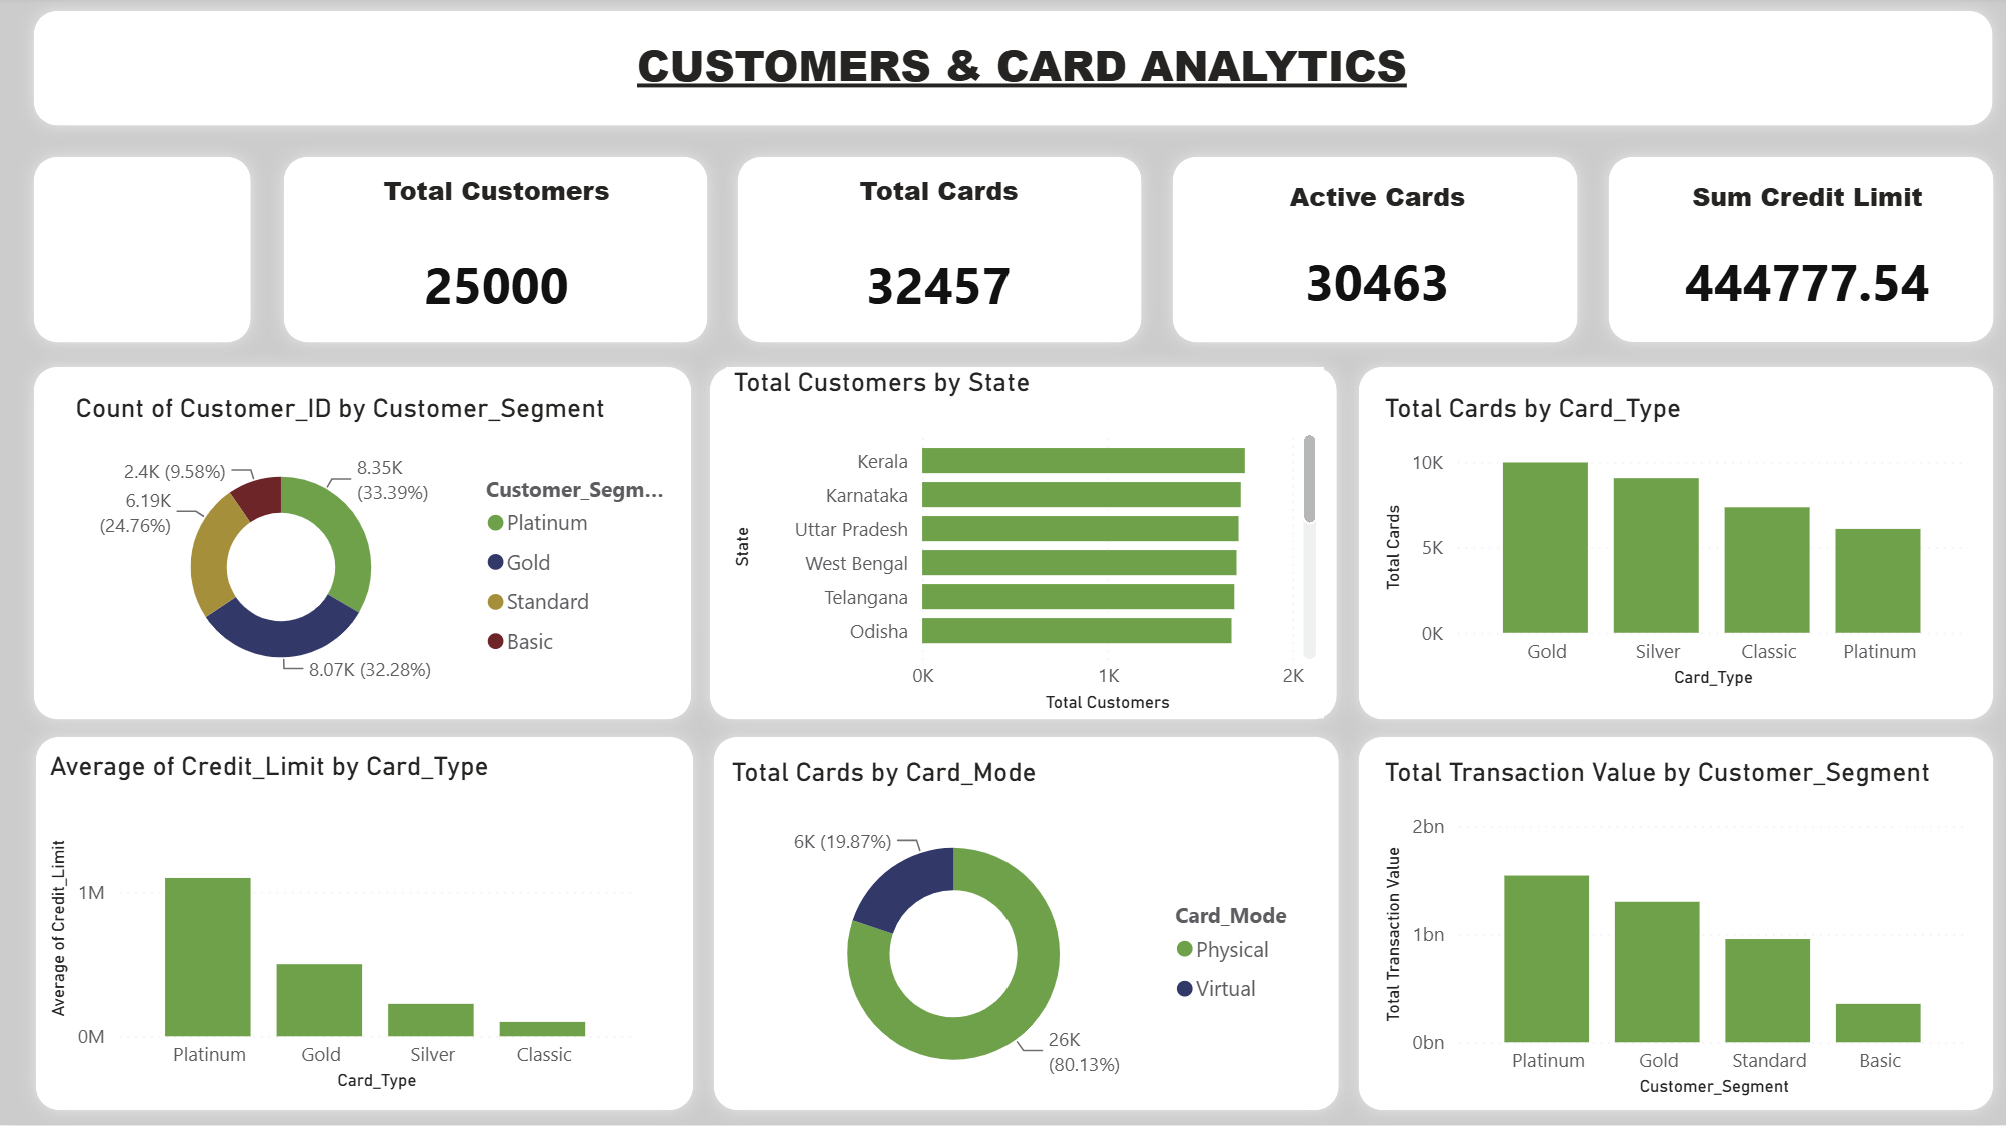

The dashboard page shown, as its layout file describes it:
{"tool":"powerbi","page":{"name":"Customer & Card Analytics","canvas":[1280,720],"ordinal":1},"visuals":[{"type":"shape","box":[170.9,93.5,290.1,138.4],"z":0},{"type":"shape","box":[460.4,93.1,276.8,138.4],"z":1000},{"type":"shape","box":[737.1,93.1,278.1,138.4],"z":2000},{"type":"shape","box":[1015.2,93.1,265.3,138.1],"z":3000},{"type":"shape","box":[855.6,227.5,424.4,244.8],"z":4000},{"type":"shape","box":[855.6,463,424.4,258.1],"z":5000},{"type":"shape","box":[442.4,226.9,419.1,244.8],"z":6000},{"type":"shape","box":[444.4,463,417.8,258.1],"z":7000},{"type":"shape","box":[12,227.5,439.1,244.8],"z":8000},{"type":"shape","box":[12.9,462.7,439.1,258.1],"z":9000},{"type":"shape","box":[12,93.1,158.3,138.4],"z":10000},{"type":"shape","box":[12,0,1268,93.1],"z":11000},{"type":"cardVisual","title":"Total Customers","fields":{"Data":["FactTransaction.Total Customers"]},"box":[201.5,112.8,230.2,121.1],"z":12000},{"type":"cardVisual","title":"Sum Credit Limit","fields":{"Data":["Avg(DimCard.Credit_Limit)"]},"box":[1022.1,117.7,258.1,109.1],"z":13000},{"type":"donutChart","fields":{"Category":["DimCustomer.Customer_Segment"],"Y":["CountNonNull(DimCustomer.Customer_ID)"]},"box":[43.5,253.1,388.5,191.8],"z":14000},{"type":"barChart","fields":{"Category":["DimCustomer.State"],"Y":["FactTransaction.Total Customers"]},"box":[462.7,237,380.5,224.1],"z":15000},{"type":"cardVisual","title":"Active Cards","fields":{"Data":["FactTransaction.Active Cards"]},"box":[748,117.7,258.1,109.1],"z":16000},{"type":"cardVisual","title":"Total Cards","fields":{"Data":["FactTransaction.Total Cards"]},"box":[483.6,112.8,230.2,121.1],"z":17000},{"type":"columnChart","fields":{"Category":["DimCard.Card_Type"],"Y":["FactTransaction.Total Cards"]},"box":[877,253.1,382.1,191.8],"z":18000},{"type":"columnChart","fields":{"Category":["DimCard.Card_Type"],"Y":["Avg(DimCard.Credit_Limit)"]},"box":[27.4,482,382.1,220.9],"z":19000},{"type":"donutChart","fields":{"Category":["DimCard.Card_Mode"],"Y":["FactTransaction.Total Cards"]},"box":[461.1,485.2,382.1,220.9],"z":20000},{"type":"columnChart","fields":{"Category":["DimCustomer.Customer_Segment"],"Y":["FactTransaction.Total Transaction Value"]},"box":[877,485.2,382.1,220.9],"z":21000},{"type":"textbox","box":[43.5,21,1215.5,53.2],"z":22000}]}

Visuals, with their boxes in screenshot pixels (x1, y1, x2, y2), scaled from the page's 1280x720 canvas onto the 2006x1126 screenshot:
shape: 268 146 722 363
shape: 722 146 1155 362
shape: 1155 146 1591 362
shape: 1591 146 2005 362
shape: 1341 356 2005 739
shape: 1341 724 2005 1125
shape: 693 355 1350 738
shape: 696 724 1351 1125
shape: 19 356 707 739
shape: 20 724 708 1125
shape: 19 146 267 362
shape: 19 0 2005 146
"Total Customers" cardVisual: 316 176 677 366
"Sum Credit Limit" cardVisual: 1602 184 2005 355
donutChart - DimCustomer.Customer_Segment x CountNonNull(DimCustomer.Customer_ID): 68 396 677 696
barChart - DimCustomer.State x FactTransaction.Total Customers: 725 371 1321 721
"Active Cards" cardVisual: 1172 184 1577 355
"Total Cards" cardVisual: 758 176 1119 366
columnChart - DimCard.Card_Type x FactTransaction.Total Cards: 1374 396 1973 696
columnChart - DimCard.Card_Type x Avg(DimCard.Credit_Limit): 43 754 642 1099
donutChart - DimCard.Card_Mode x FactTransaction.Total Cards: 723 759 1321 1104
columnChart - DimCustomer.Customer_Segment x FactTransaction.Total Transaction Value: 1374 759 1973 1104
textbox: 68 33 1973 116
